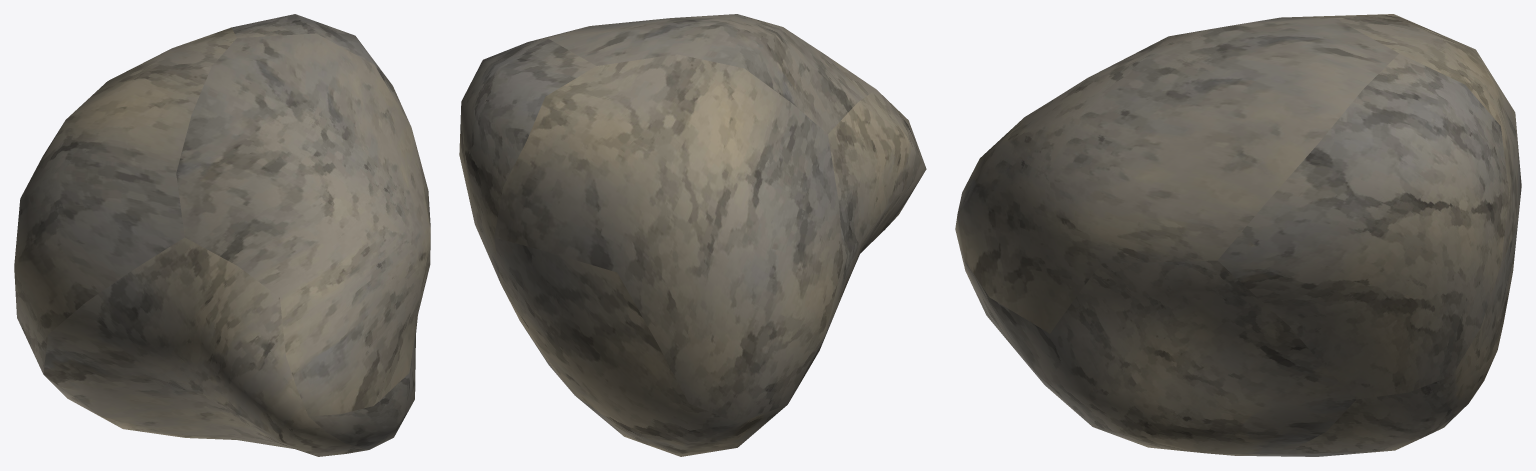
File: rock4.fbx
3 views of the same model, side by side, from view 1: azimuth 30°, elevation 25°; view 2: azimuth 150°, elevation 25°; view 3: azimuth 270°, elevation 25° (orthographic). The views are drawn at different scales.
Visible parts, largest first — view 1: Mossy_Rock_2:Mesh; view 2: Mossy_Rock_2:Mesh; view 3: Mossy_Rock_2:Mesh.
Part boxes in pixels (left/top/right/bottom): Mossy_Rock_2:Mesh: left=14, top=14, right=430, bottom=456; Mossy_Rock_2:Mesh: left=459, top=14, right=926, bottom=456; Mossy_Rock_2:Mesh: left=955, top=14, right=1521, bottom=456.
Bounding box in the file's own units: 4.42 × 4.49 × 5.37.
